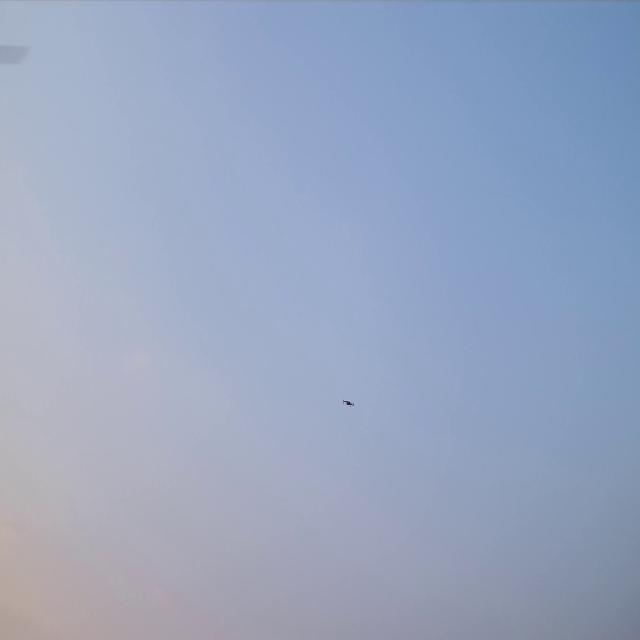UAV: (343, 400, 353, 405)
